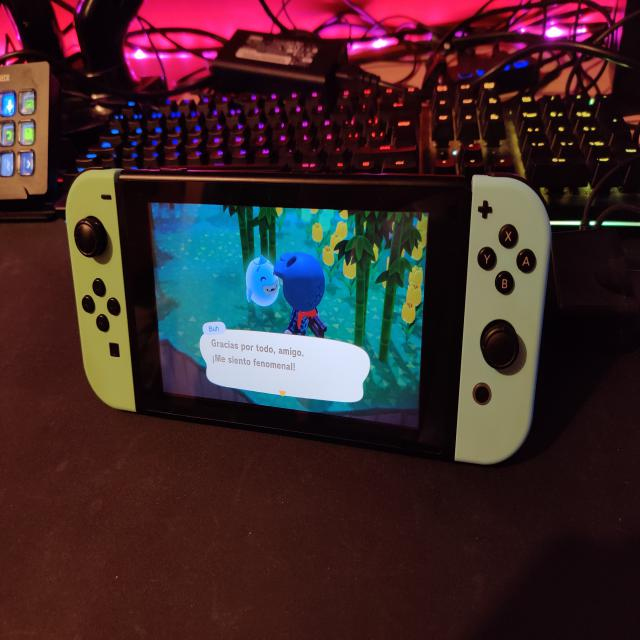text_bubble: (200, 320, 373, 404)
